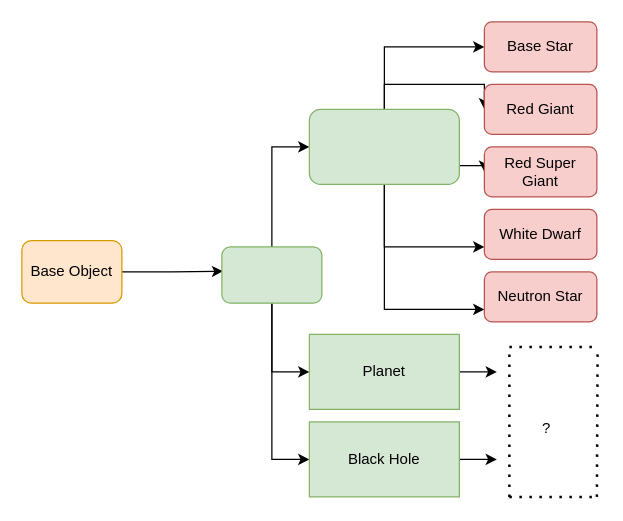
This 623x521 diagram has some shape labels left out. The shapes that lost their labels are listed below. From the top down, each one's centre as x and y in pixels, then its label:
(383,146): Star
(271,274): Observed Object
